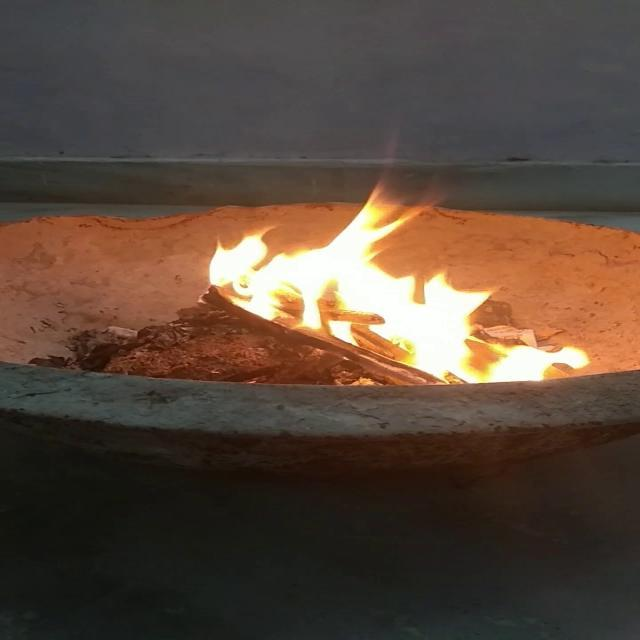Fire: (204, 193, 578, 401)
